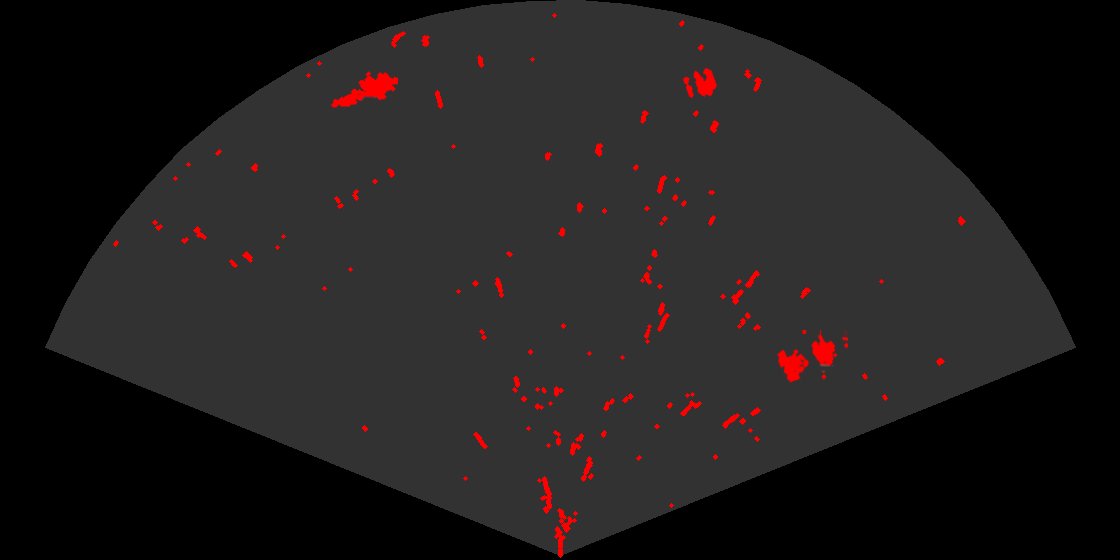ball: (681, 66, 718, 100)
cage: (775, 330, 848, 384)
frogman: (330, 70, 398, 109)
